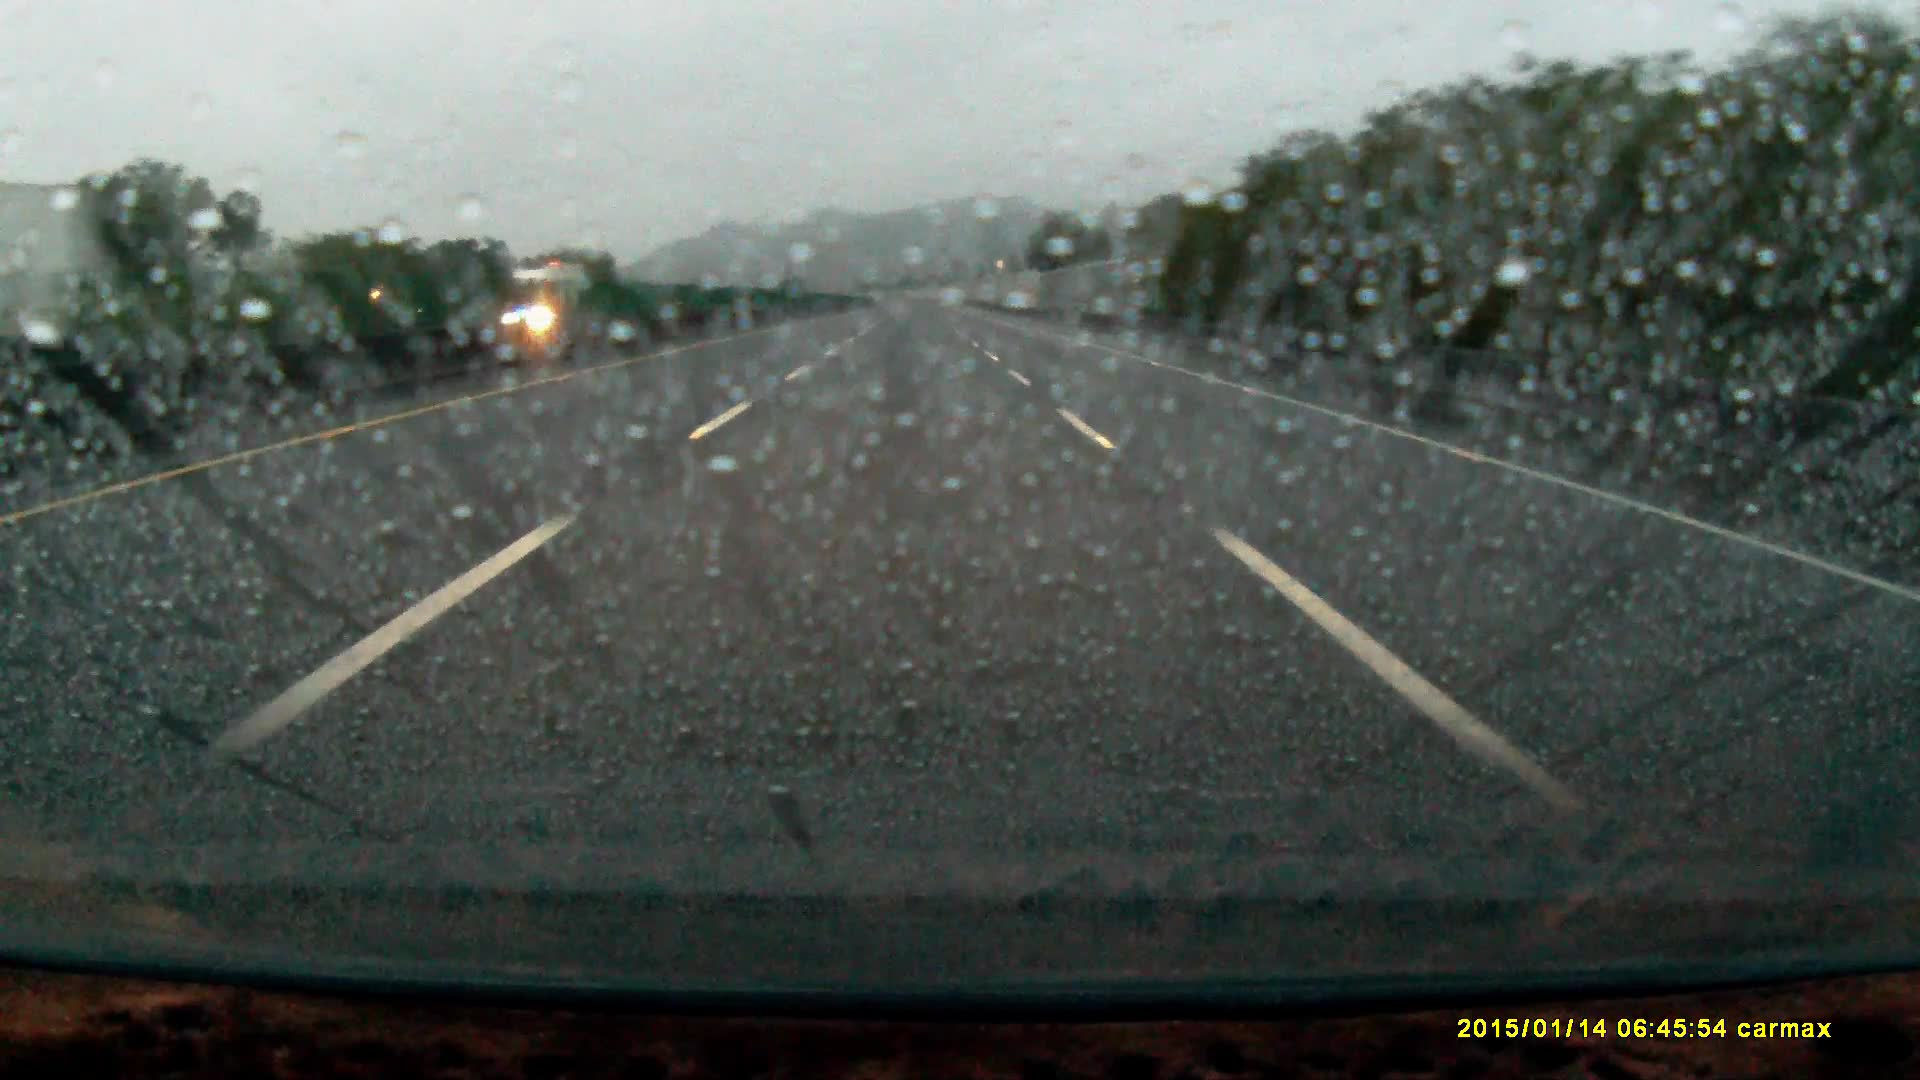vehicle: (506, 261, 589, 334)
